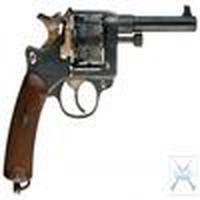gun: (6, 10, 197, 185)
